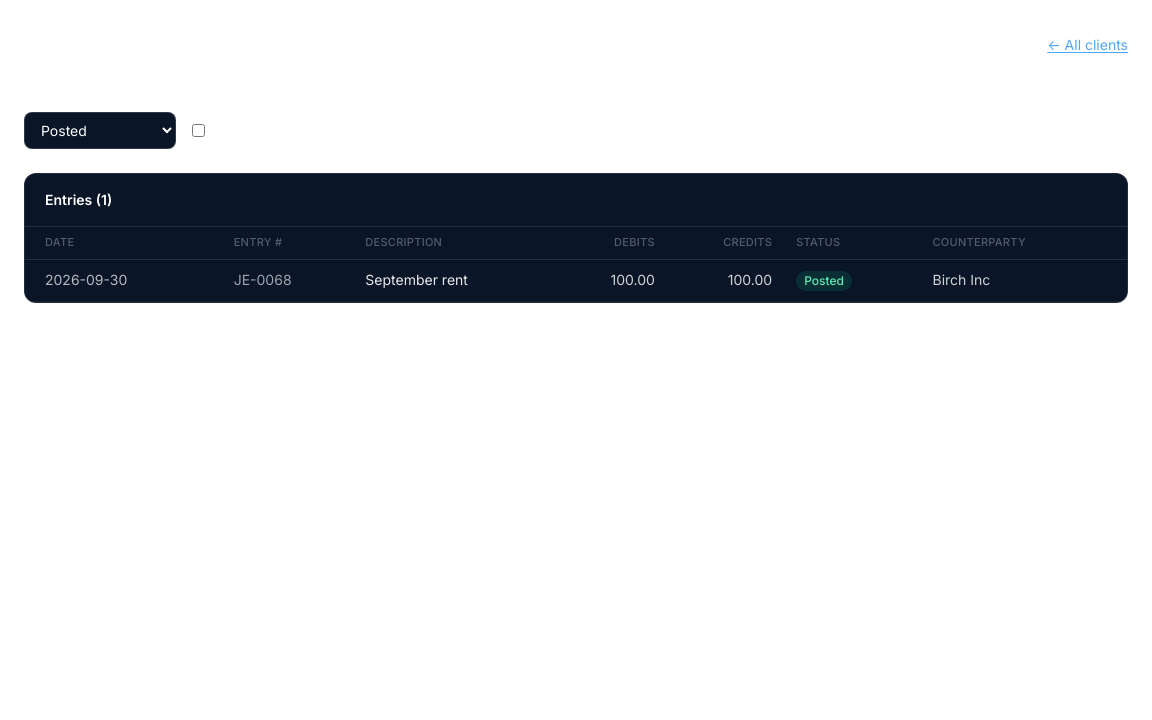
Test case: staff client entries — writes on the live entry only (D-S85-13) › offers the staff writes on a live entry
This screenshot has width=1152, height=720.
What coordinates should you click on to do the following:
click the text "JE-0068"
I would click on:
 (288, 280)
Its box is [222,259,353,301].
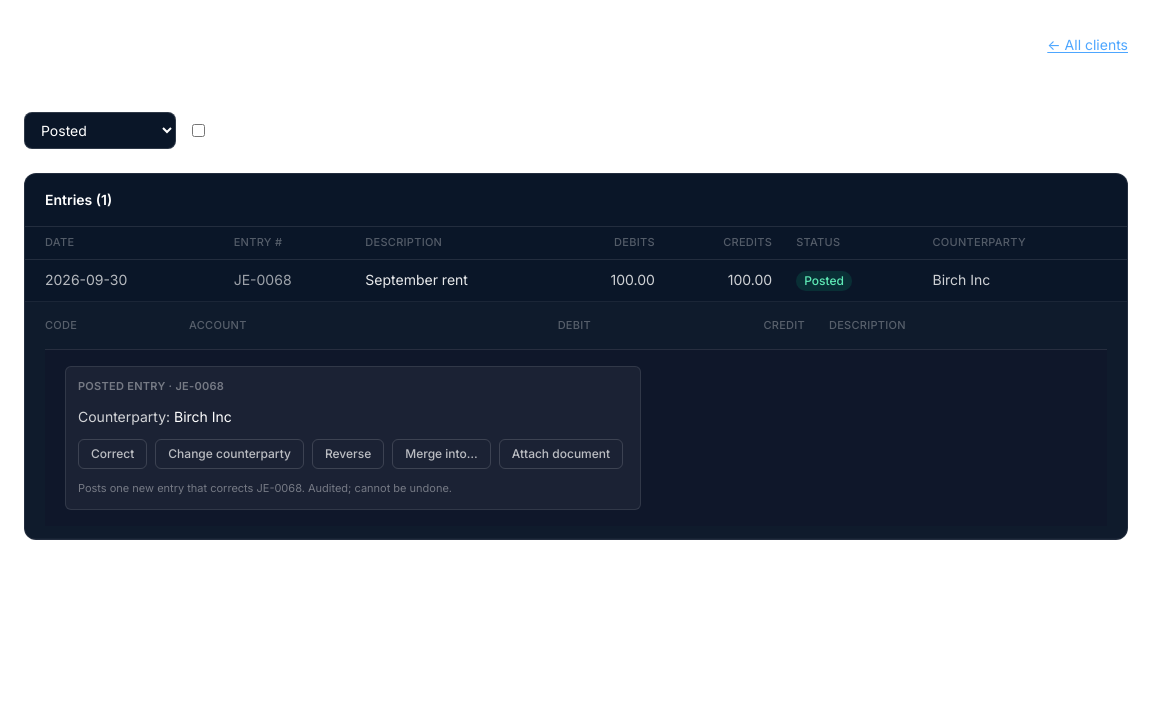
Expected: the button "Correct" is shown, [78,439,147,469]
